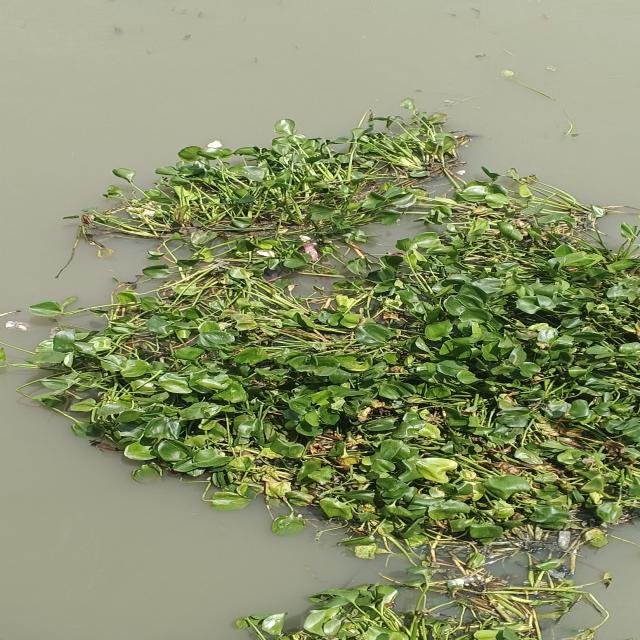Organic Debris: (0, 95, 640, 567), (230, 568, 640, 640), (496, 68, 559, 104), (557, 106, 584, 140), (436, 96, 480, 112), (496, 44, 519, 58), (465, 6, 484, 20), (469, 51, 496, 60), (539, 11, 552, 21), (181, 33, 194, 42), (444, 13, 460, 18)
Plastic: (296, 240, 324, 262), (444, 575, 485, 587), (557, 530, 571, 550), (544, 568, 566, 579), (557, 566, 574, 578), (206, 139, 223, 149)
